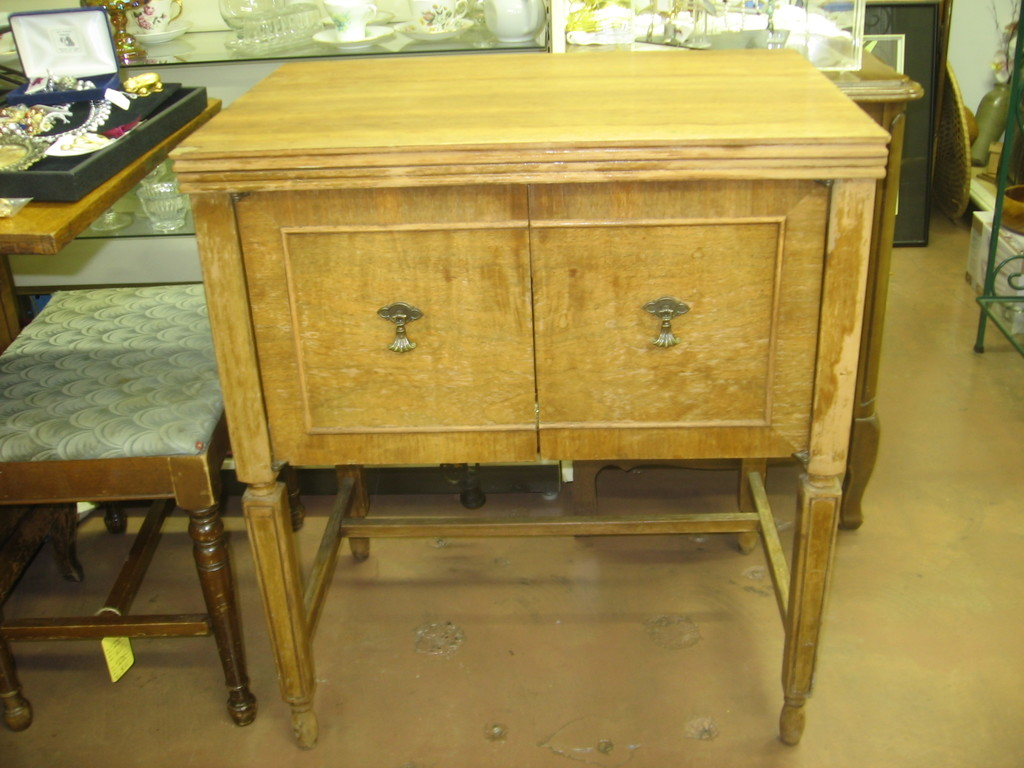Cabinetry: (152, 54, 893, 737)
